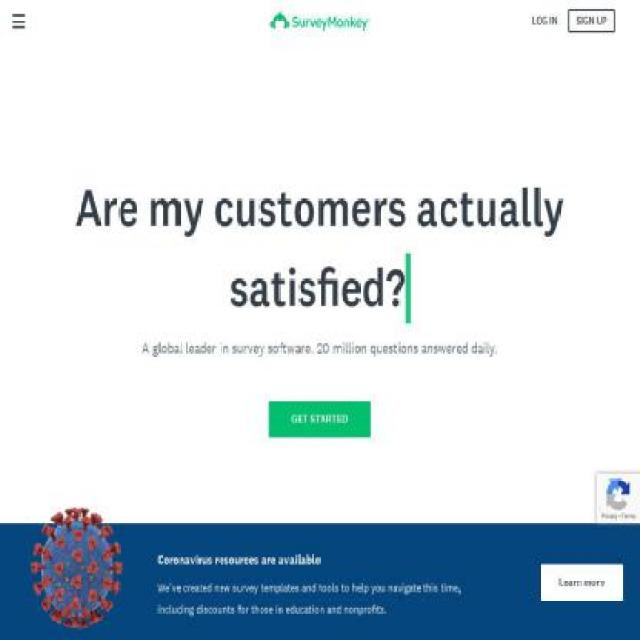button: (12, 11, 628, 35), (268, 400, 372, 438), (539, 563, 624, 600), (568, 10, 615, 32), (524, 10, 565, 32)
